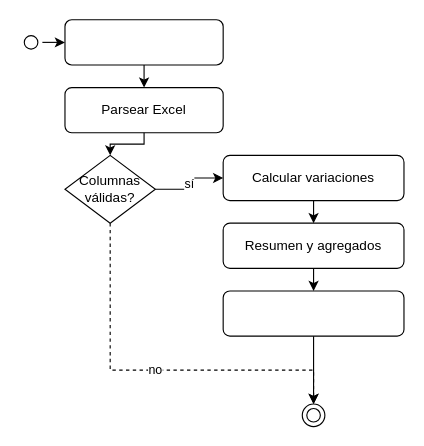
Image size: 424x446. Some labels were removed from this diagram. Here are the shapes that lost their labels. From the top down, the box of each, then its label:
(64, 19, 223, 65): Subir archivo
(222, 290, 404, 336): Generar/Exportar reporte
